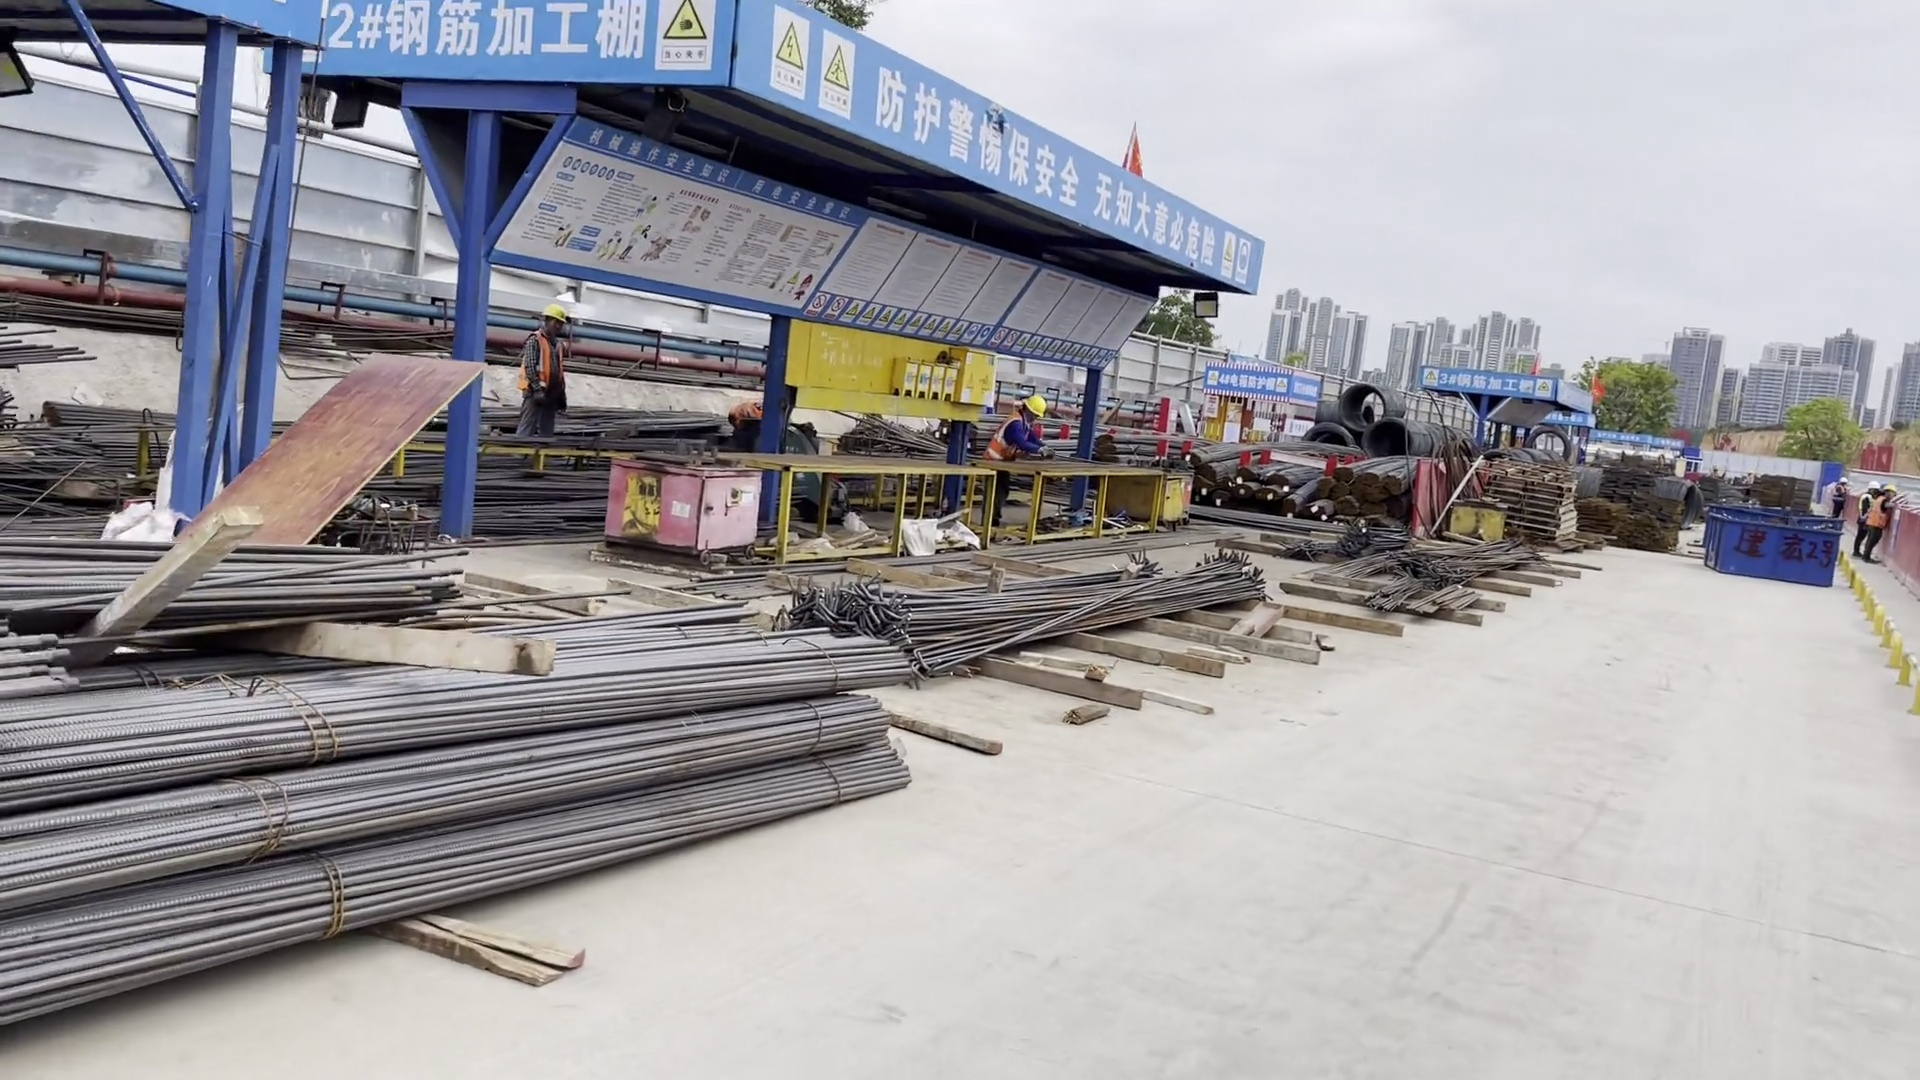ebox: (952, 348, 996, 411)
helmet: (540, 306, 561, 325), (1026, 399, 1048, 414), (1883, 485, 1897, 494), (1867, 481, 1879, 489), (1839, 475, 1848, 484)
hopper: (1696, 500, 1844, 590)
person: (512, 306, 578, 439), (982, 400, 1048, 464), (1853, 479, 1878, 555), (1873, 487, 1898, 563), (1828, 476, 1847, 523)
rebar: (1, 611, 896, 1004), (1, 509, 493, 666), (897, 566, 1275, 674), (1189, 439, 1361, 463), (1359, 454, 1419, 485), (1332, 452, 1393, 481), (1284, 477, 1325, 515), (1385, 458, 1423, 489), (1279, 463, 1322, 484), (1261, 483, 1293, 506), (1236, 476, 1265, 501), (1304, 499, 1335, 521), (1317, 478, 1349, 498), (1392, 493, 1411, 522), (1337, 496, 1359, 518), (1369, 483, 1391, 504), (1211, 486, 1233, 506), (1359, 503, 1389, 516)
slogan: (879, 61, 1214, 276)
vest: (521, 329, 564, 401), (986, 414, 1030, 464), (725, 401, 764, 423), (1869, 497, 1888, 529), (1858, 492, 1874, 523), (1832, 483, 1844, 507)
